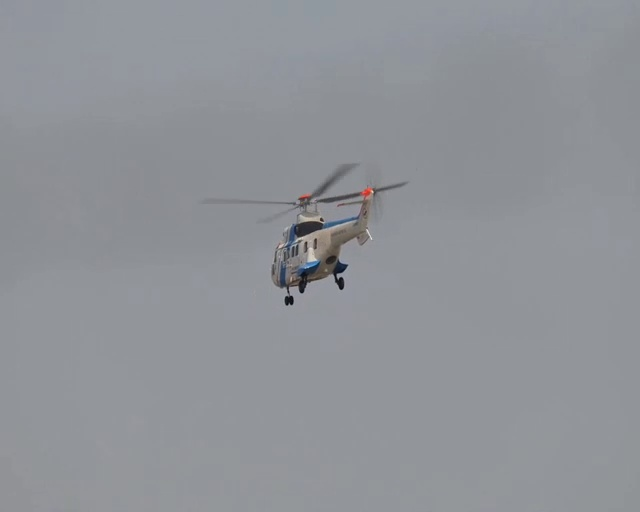HELICOPTER: (199, 160, 411, 307)
